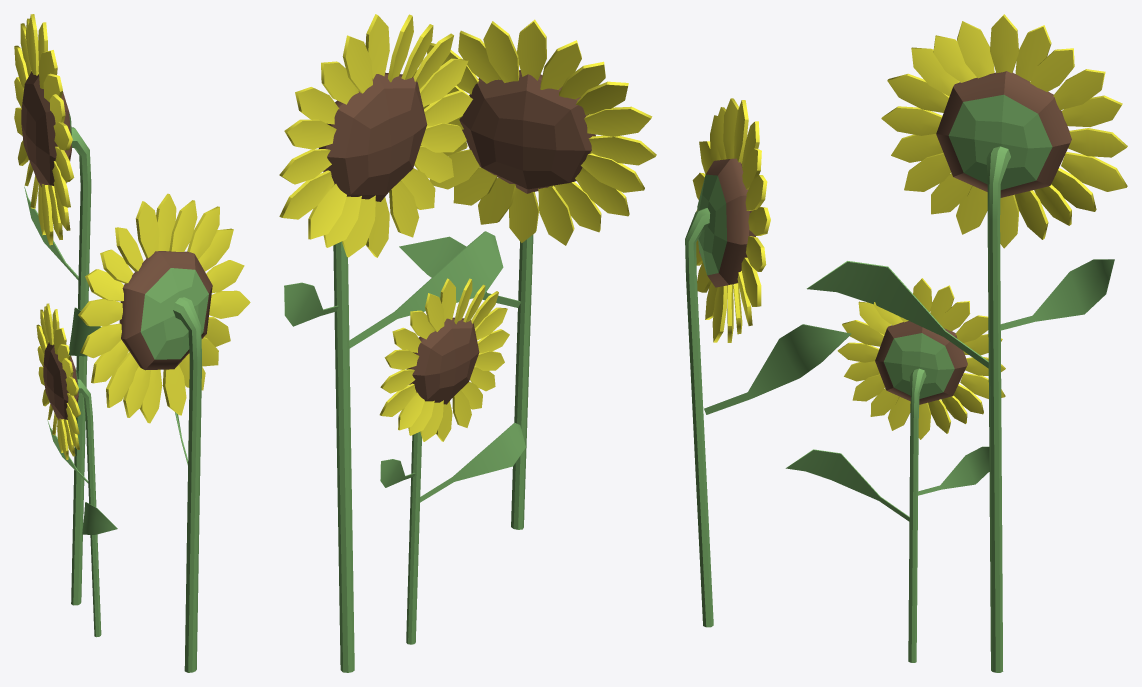
The model's file is Sunflower.fbx.
3 views of the same model, side by side, from view 1: azimuth 30°, elevation 25°; view 2: azimuth 150°, elevation 25°; view 3: azimuth 270°, elevation 25° (orthographic). The views are drawn at different scales.
Parts seen in each view (by area): view 1: Sunflowers_001; view 2: Sunflowers_001; view 3: Sunflowers_001.
Part boxes in pixels (<box>): Sunflowers_001: <box>14,14,250,672</box>; Sunflowers_001: <box>279,14,656,672</box>; Sunflowers_001: <box>685,14,1127,672</box>.
Size of the model in its own units: 221 by 390 by 623.
